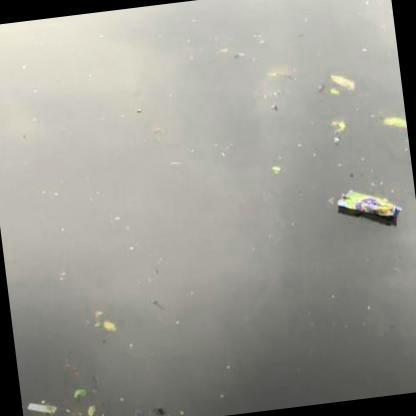Plastic: (336, 187, 403, 223)
